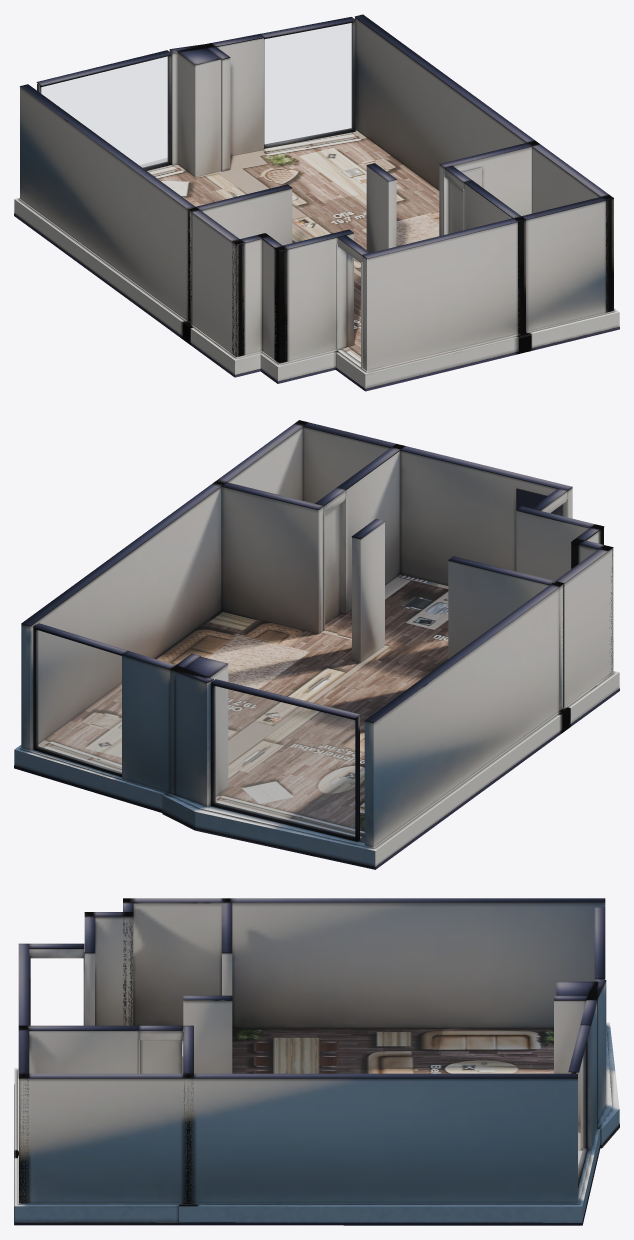
3 renders of one model, top to bottom at view 1: azimuth 30°, elevation 25°; view 2: azimuth 150°, elevation 25°; view 3: azimuth 270°, elevation 25°, orthographic. The views are drawn at different scales.
Parts seen in each view (by area): view 1: plan, glass1_m, glass0_m; view 2: plan, glass0_m, glass1_m; view 3: plan, glass1_m.
Boxes of the visible parts, left/top/right/bottom form: plan: left=14, top=14, right=619, bottom=391; glass1_m: left=264, top=23, right=352, bottom=144; glass0_m: left=41, top=56, right=168, bottom=167; plan: left=14, top=420, right=619, bottom=869; glass0_m: left=214, top=686, right=354, bottom=836; glass1_m: left=37, top=630, right=121, bottom=772; plan: left=14, top=898, right=619, bottom=1225; glass1_m: left=577, top=1048, right=585, bottom=1176.
Bounding box in the file's own units: 7.13 × 2.62 × 9.91.
Materials: 2 (1 with a texture image).
